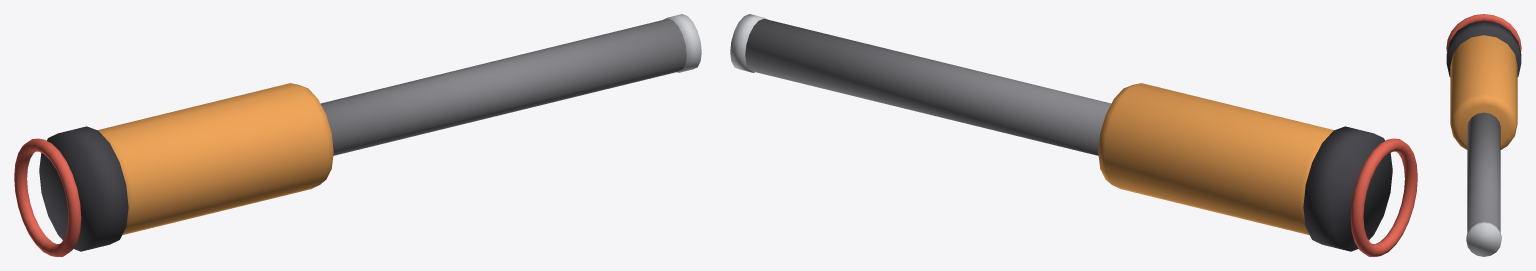
The model's file is feuerstahl.glb.
3 renders of one model, left to right at view 1: azimuth 30°, elevation 25°; view 2: azimuth 150°, elevation 25°; view 3: azimuth 270°, elevation 25°, orthographic. The views are drawn at different scales.
Visible parts, largest first — view 1: Feuerstahl; view 2: Feuerstahl; view 3: Feuerstahl.
Boxes of the visible parts, x1=… form: Feuerstahl: x1=14, y1=14, x2=701, y2=256; Feuerstahl: x1=730, y1=14, x2=1417, y2=256; Feuerstahl: x1=1446, y1=14, x2=1521, y2=256.
Bounding box in the file's own units: 0.1786 × 0.0292 × 0.0292.
